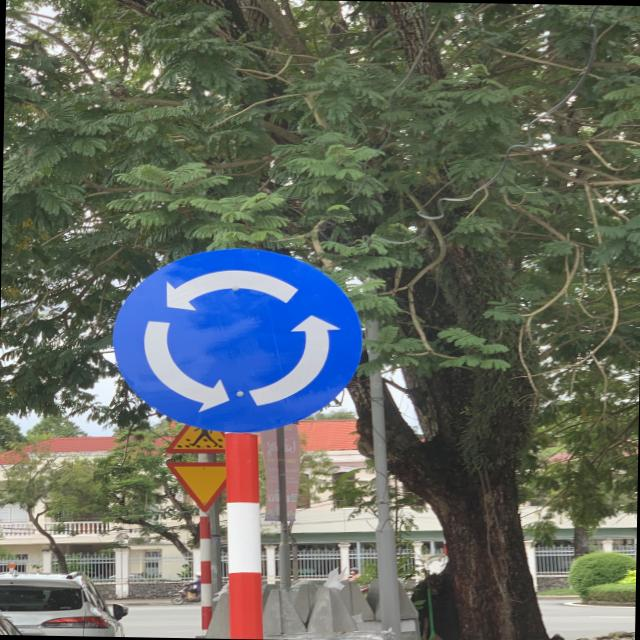Xe_Bus: (117, 244, 364, 432)
